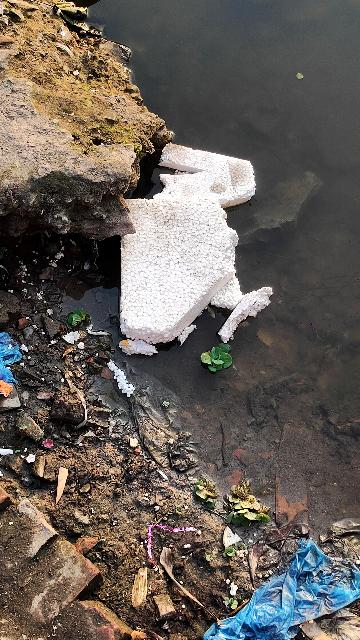cocksheet: (100, 139, 272, 347)
